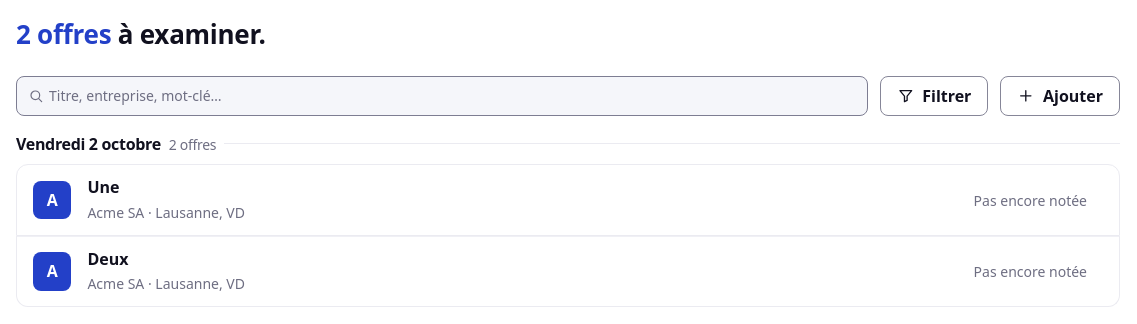
Test: OffersView › la conclusion en une phrase, selon le statut regardé (règles §3.2, 1.6.18)
The width and height of the screenshot is (1137, 324).
Expected: the element with test id "offers-sentence" reads "2 offres à examiner.", [16,16,266,52]
Expected: the text "2 offres" next to "à examiner" is shown, [16,16,111,52]
Click the button with test id "add-menu". click: (1060, 96)
box: [1000,76,1120,116]
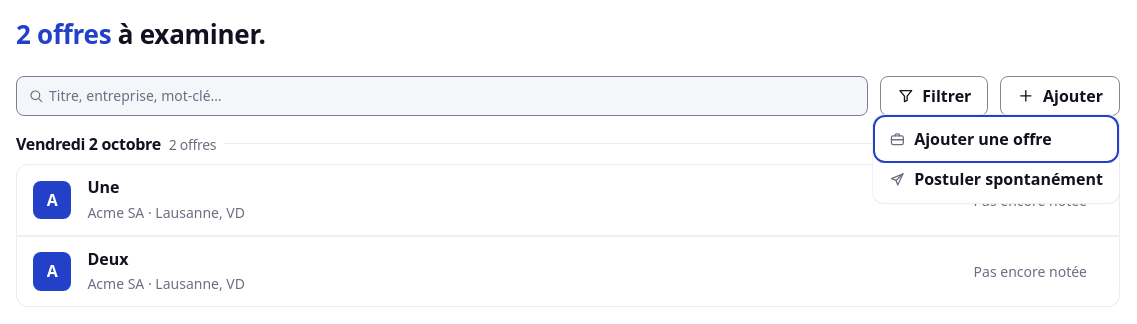
Now the menu item with test id "manual-open" is shown, box [877,119,1115,159]
